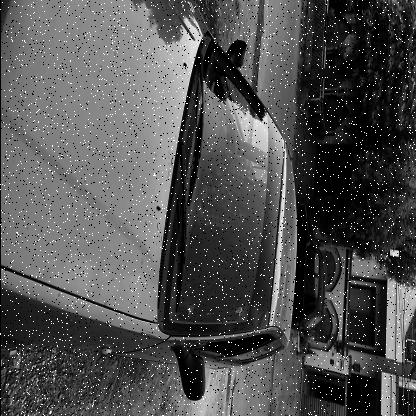no_seatbelt: (206, 160, 266, 208)
